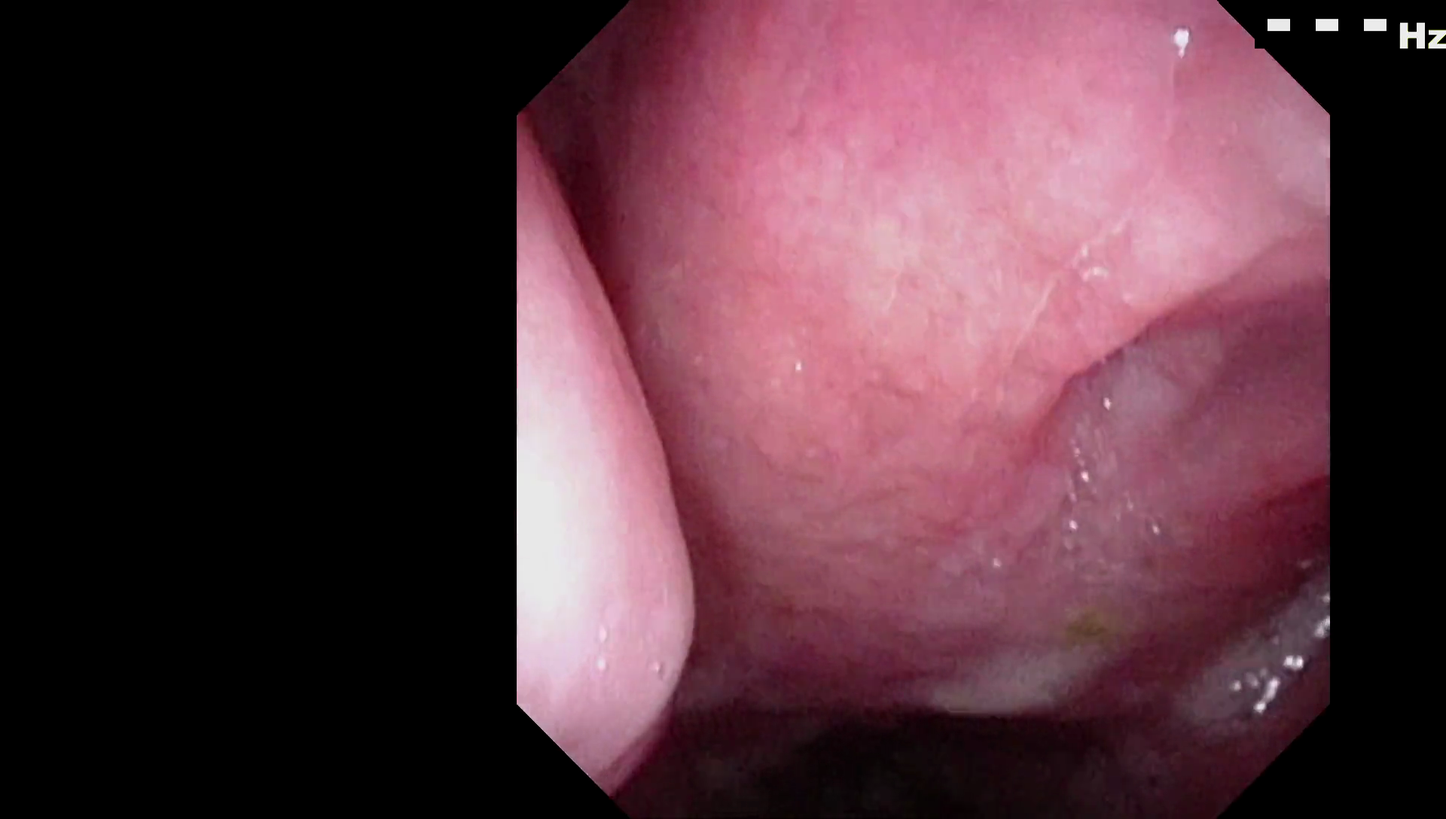close_wall: (523, 184, 776, 698)
next: (608, 610, 1150, 819)
